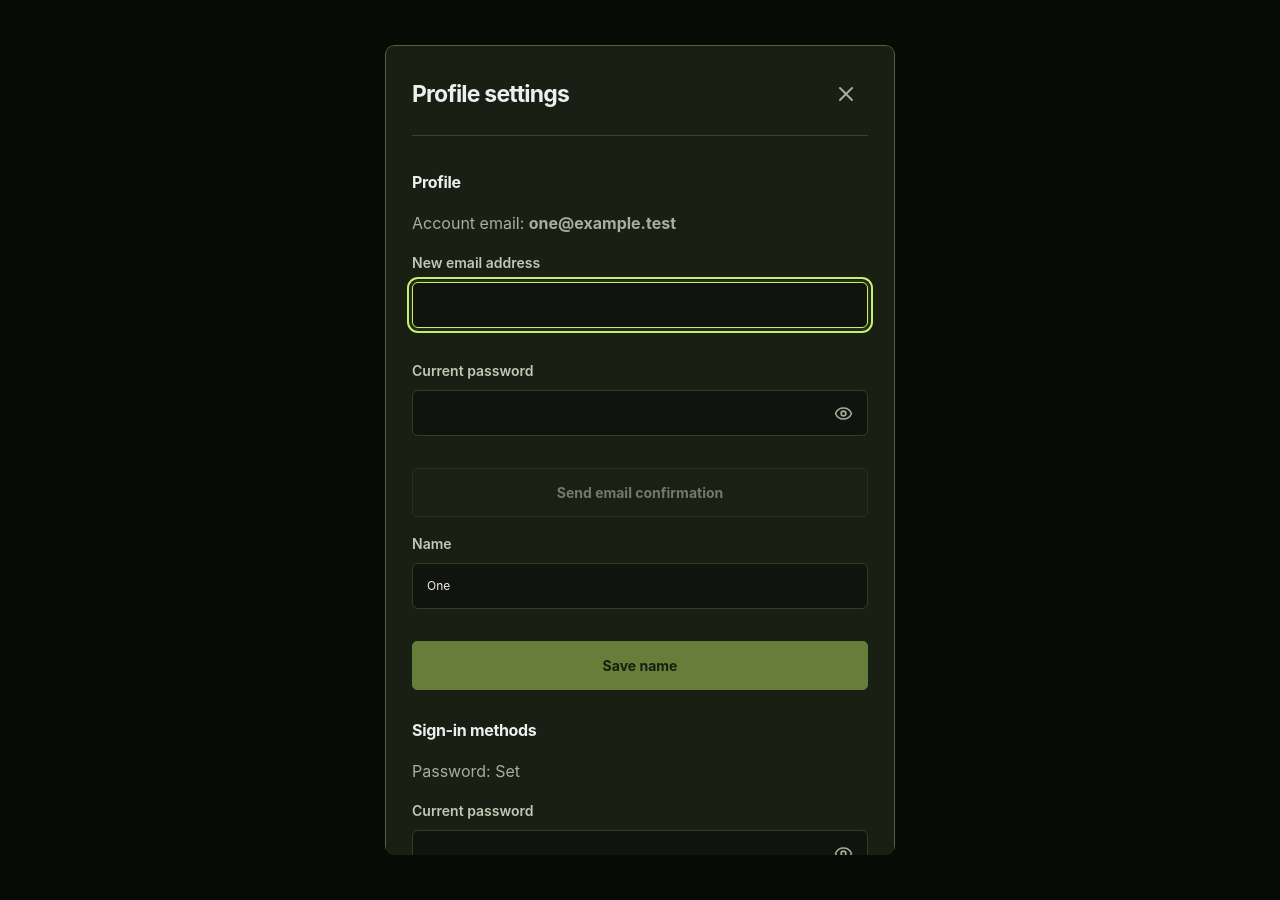
Test: failed email requests retain drafts and can be retried
Type "new@example.test" into the field labelled "New email address".
click(640, 305); type("new@example.test")  # box [412,282,868,328]
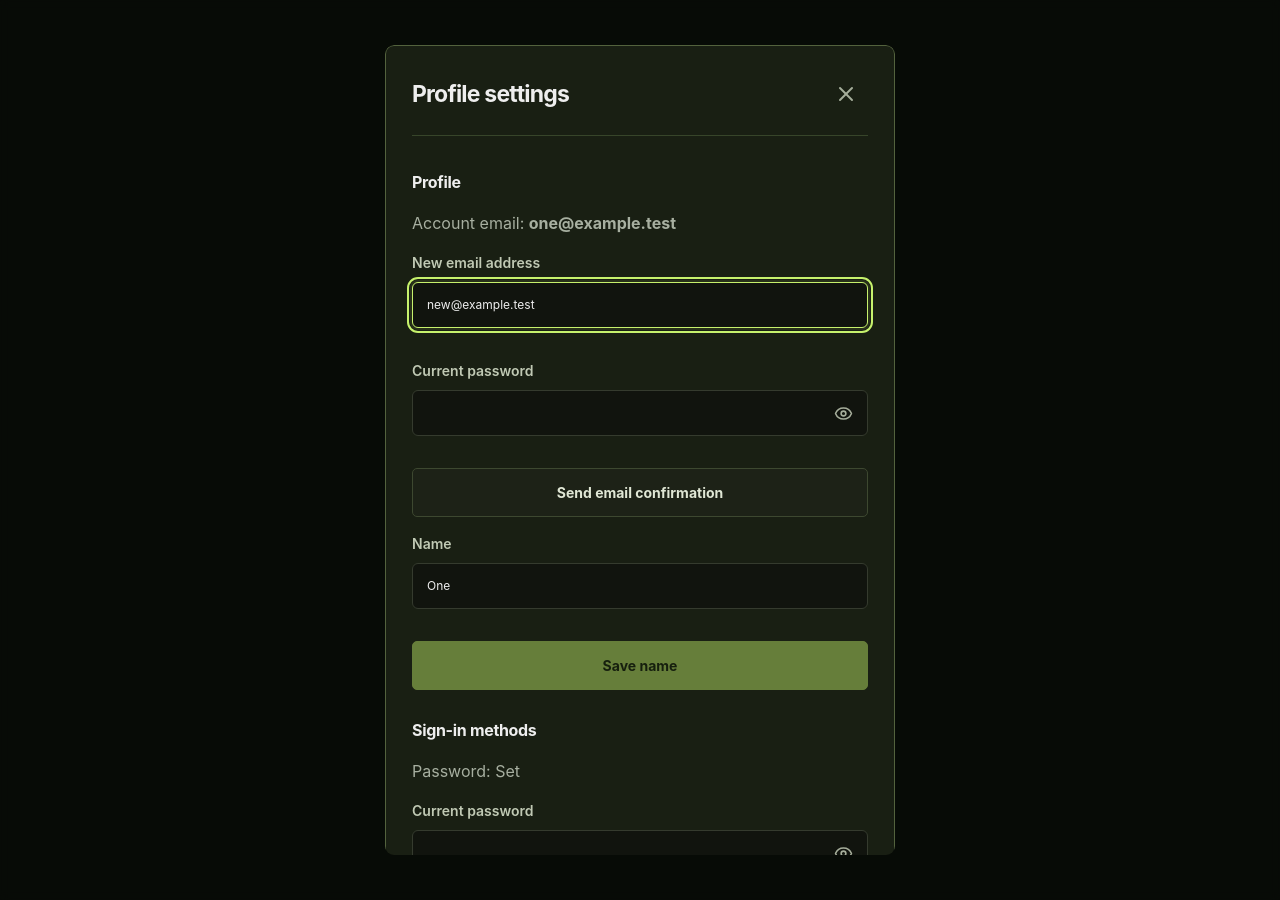
Type "CurrentPassword2026!" into the password field labelled "Current password" below "New email address".
click(640, 413); type("CurrentPassword2026!")  # box [412,390,868,436]
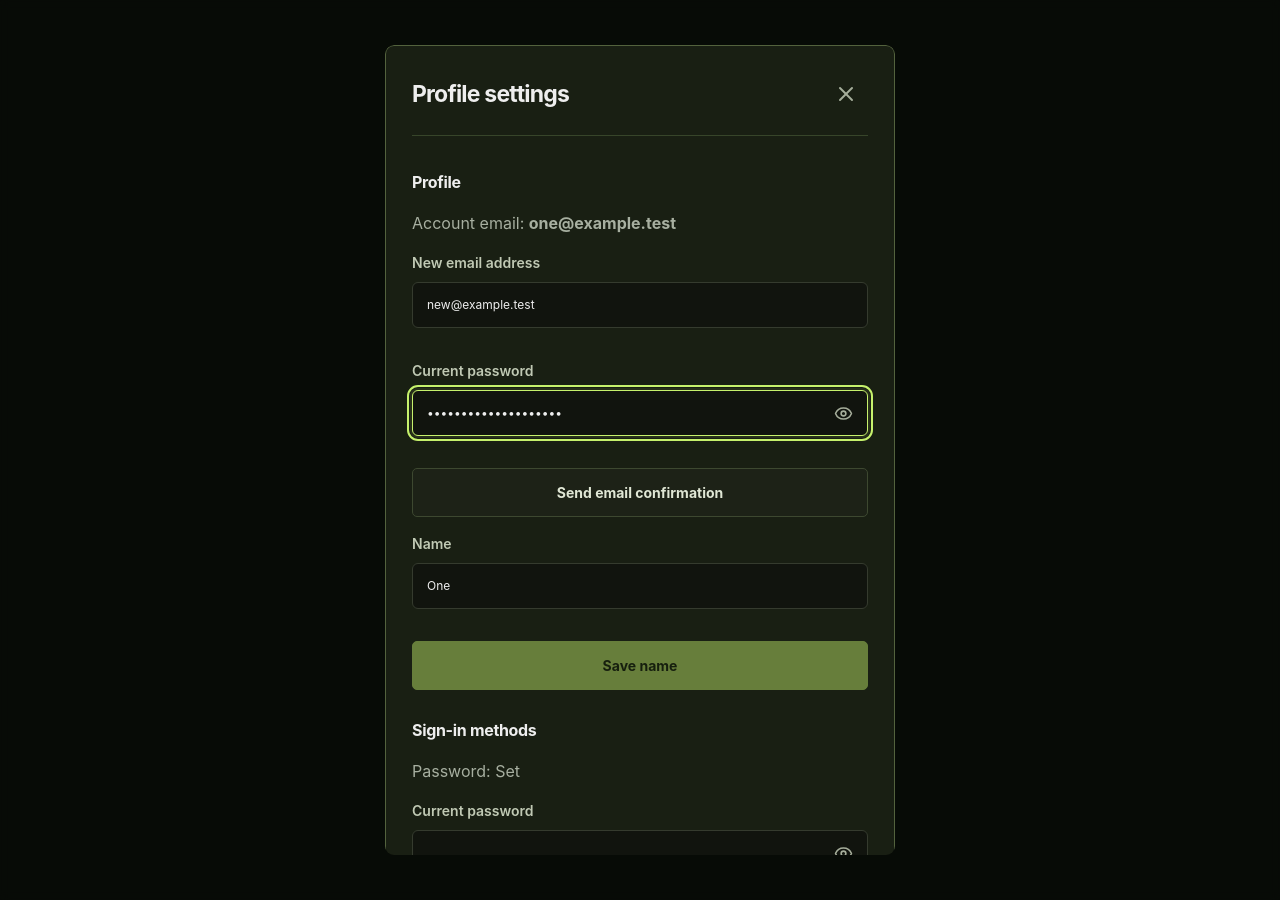
Click the button "Send email confirmation".
click(640, 492)  # box [412,468,868,517]
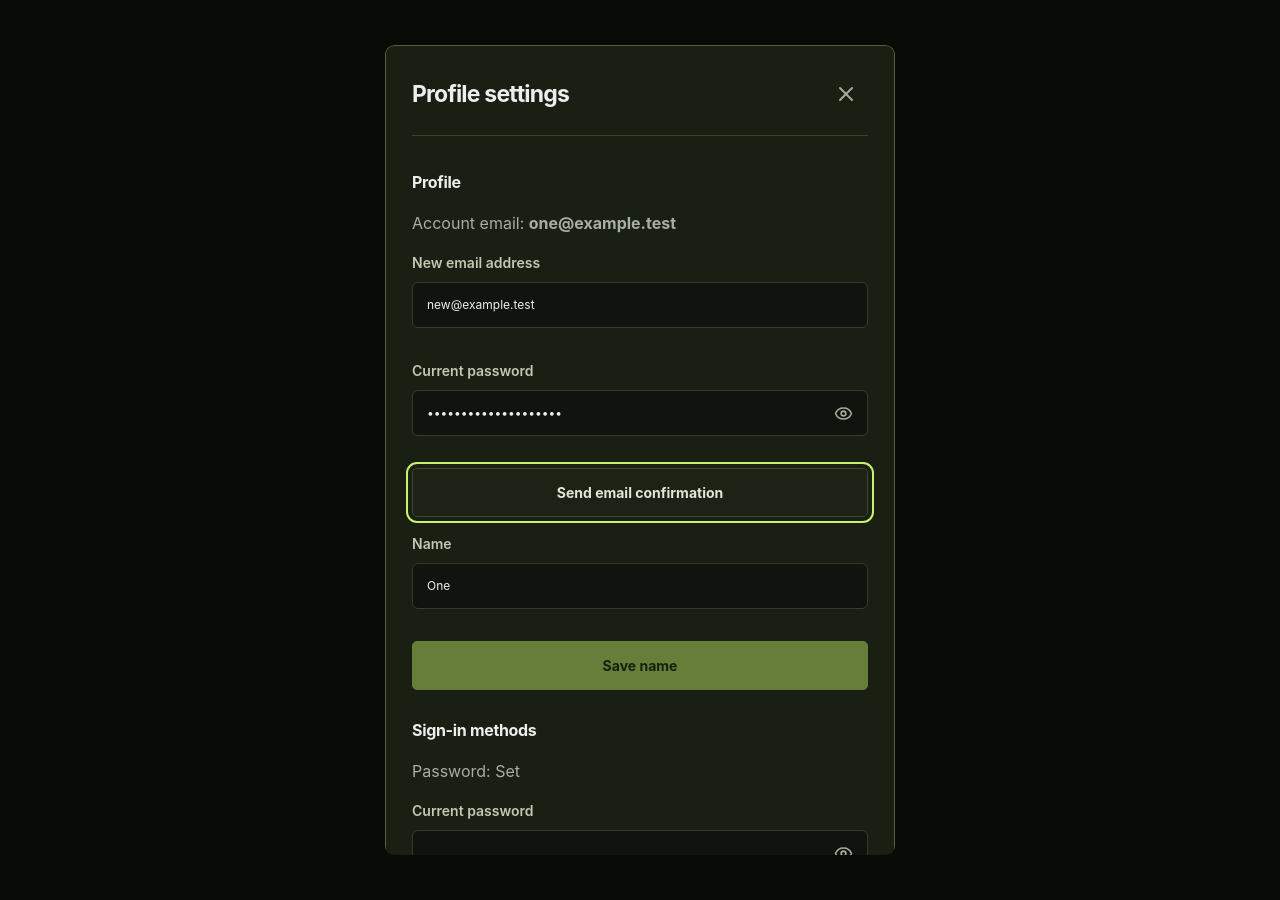
Click the button "Send email confirmation".
click(640, 492)  # box [412,468,868,517]
(page scrolled)
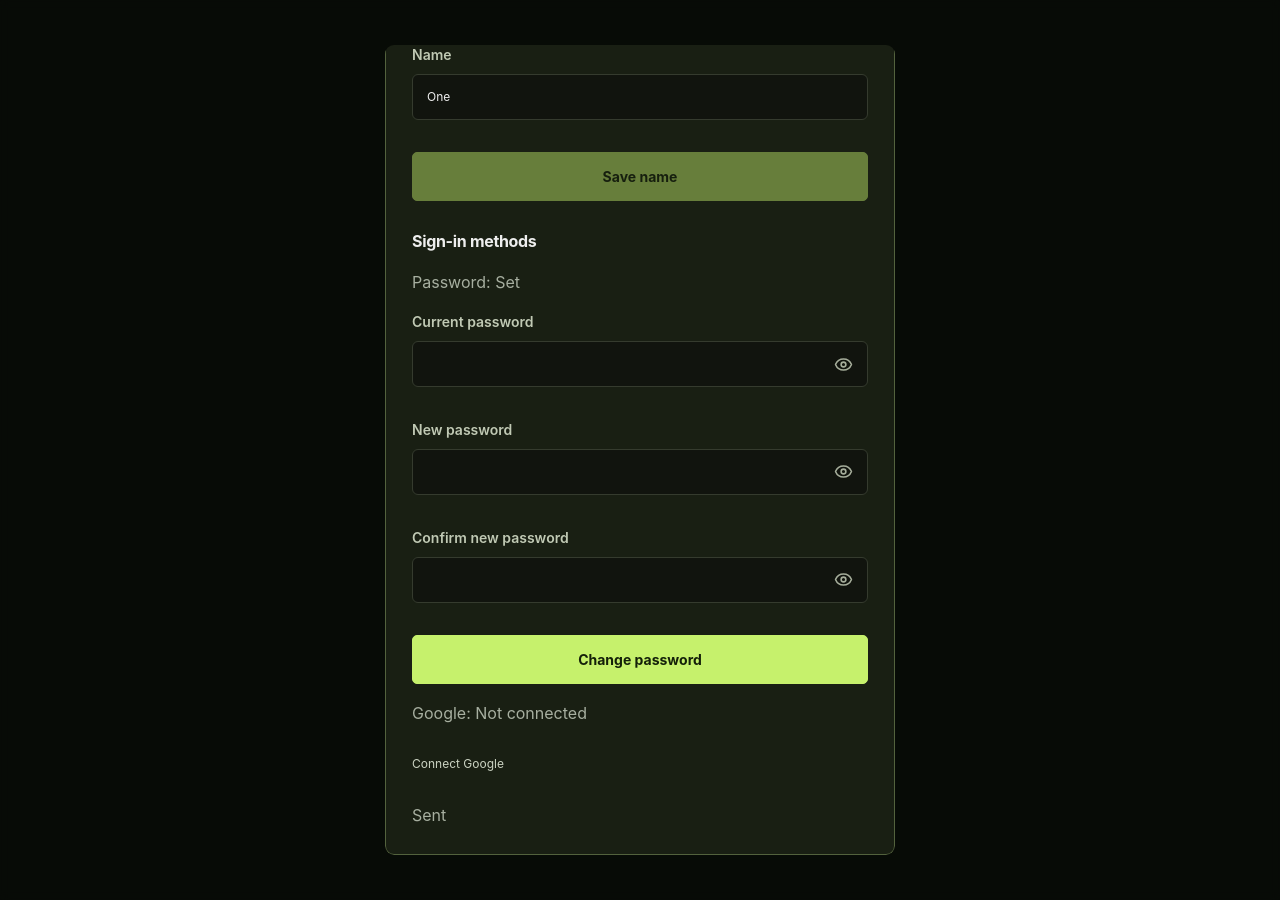
Now the text "Sent" is shown, box [412,805,446,825]
